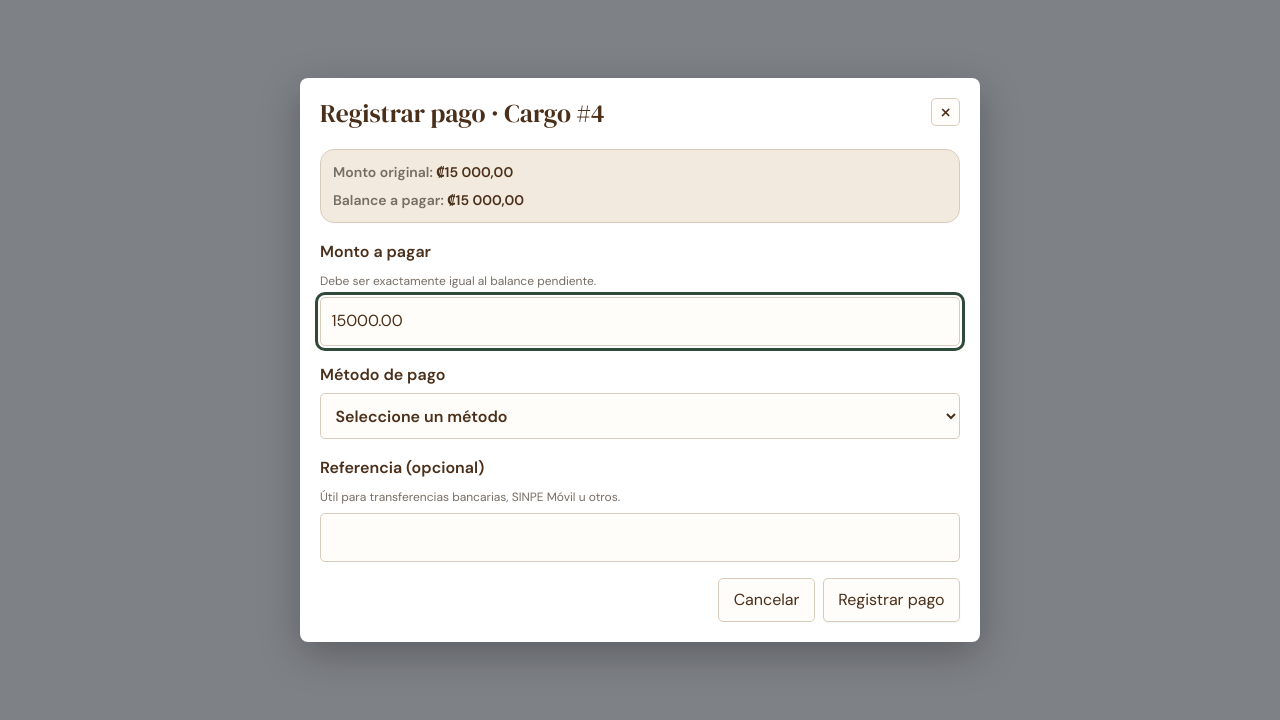
it: FinancialPaymentModal › rejects an amount different from the balance before sending
Replace the text in the field labelled "Monto a pagar" with "14999.99" at (640, 321), box [320,297,960,346]
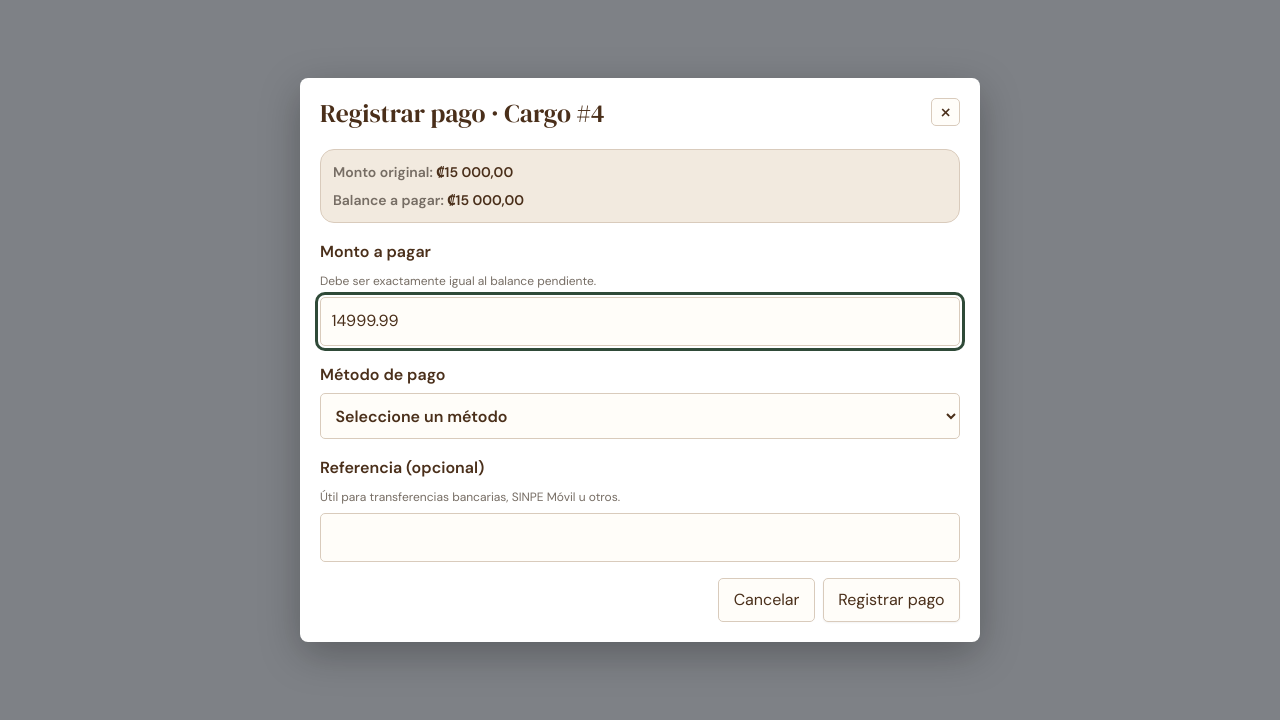
Select "Efectivo" in the dropdown labelled "Método de pago" at (640, 416), box [320,393,960,439]
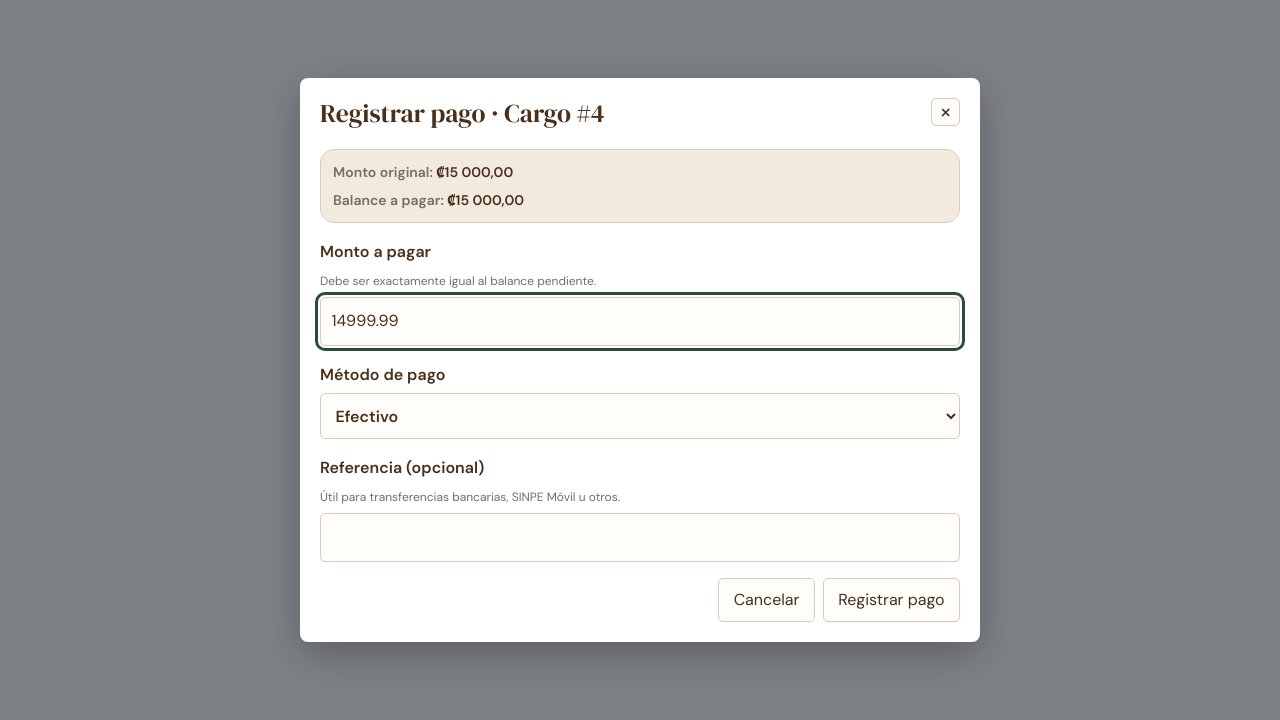
Click the button "Registrar pago" at (891, 600), box [823,578,960,622]
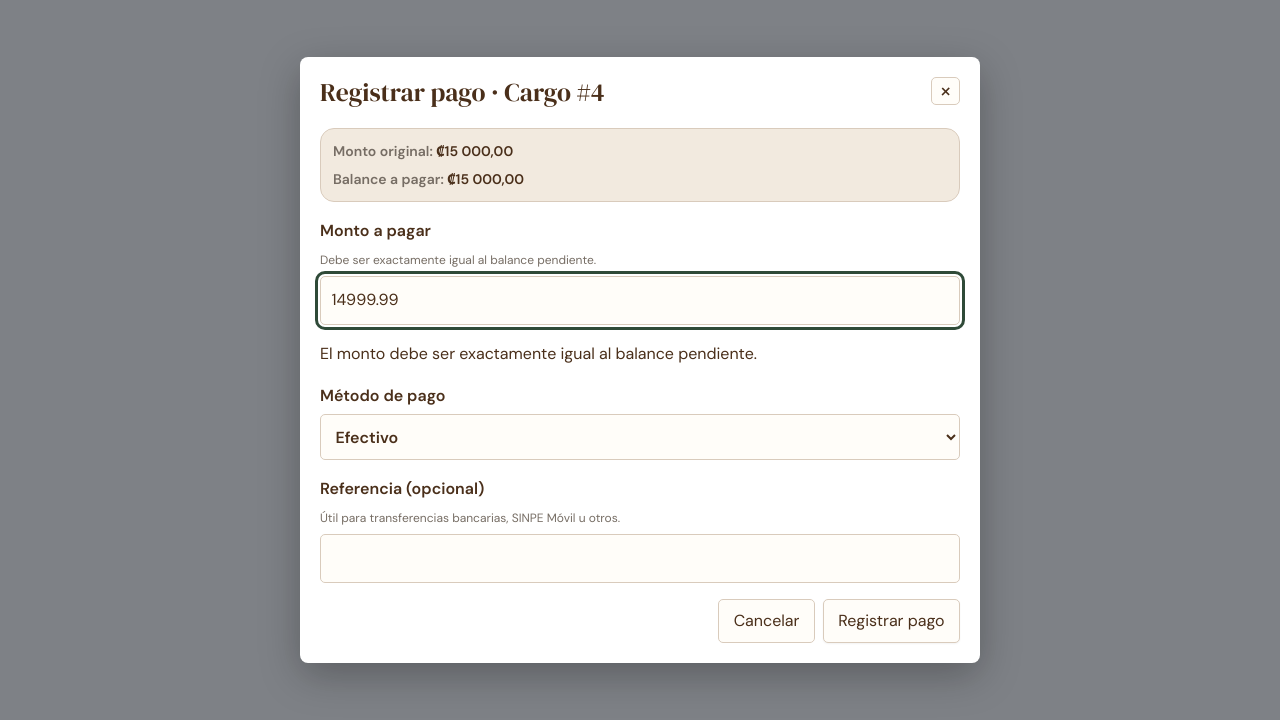
Expected: the text "El monto debe ser exactamente igual al balance pendiente." is shown, [320,343,757,364]
